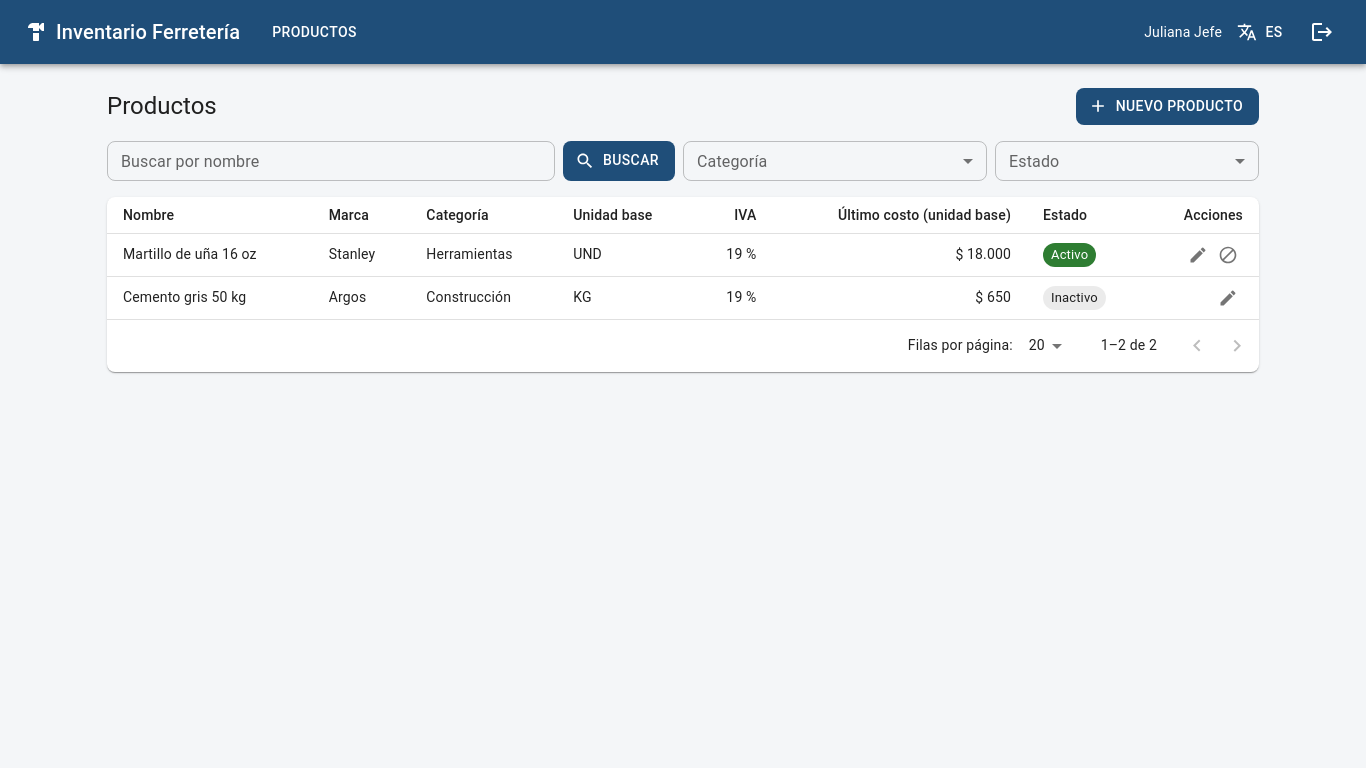
Test: ProductosPage › crear y editar abren el formulario
Expected: the row with test id "producto-fila-1" is shown, [107,233,1259,276]
Step 1. Click the button with test id "productos-nuevo" → (1167, 106), box [1076,88,1259,124]
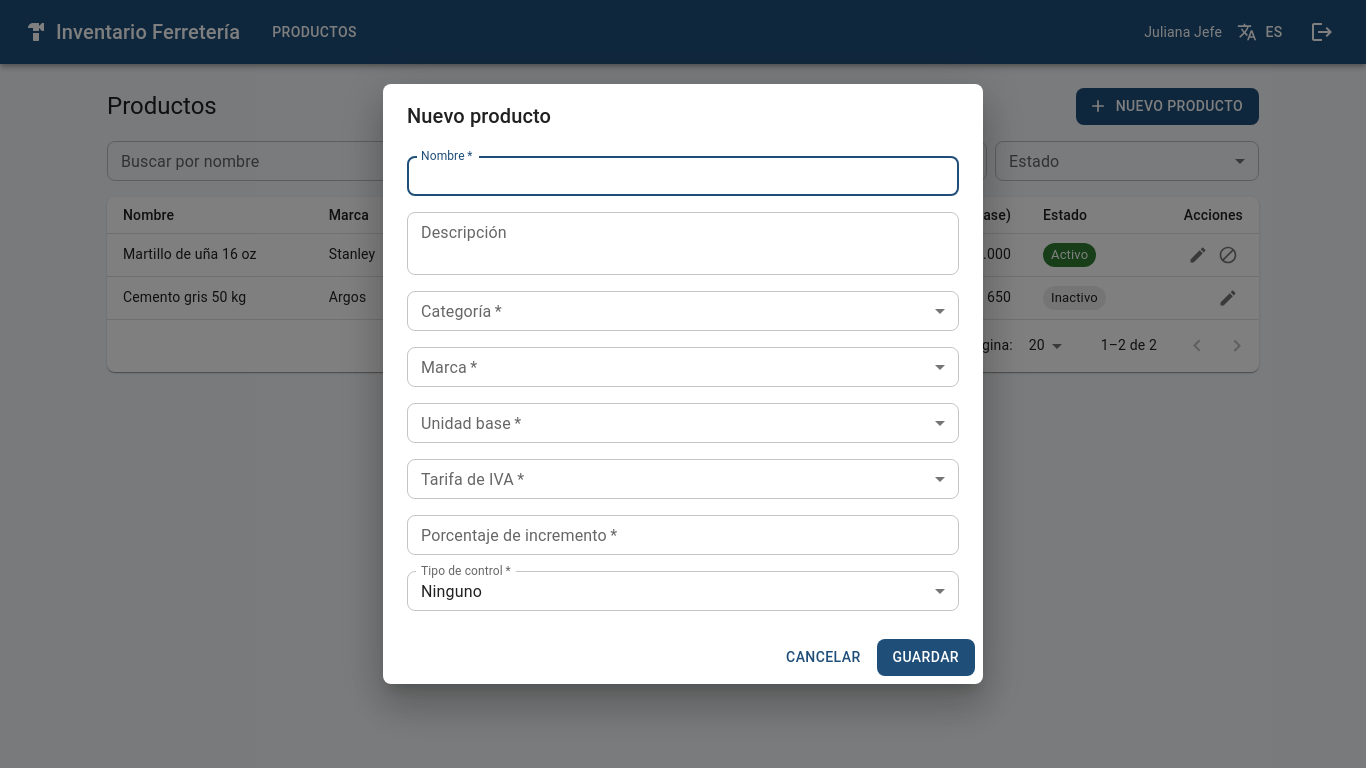
Expected: the heading "Nuevo producto" is shown, [407,104,551,128]
Step 2. Click the button with test id "producto-cancelar" → (823, 658), box [778,639,868,676]
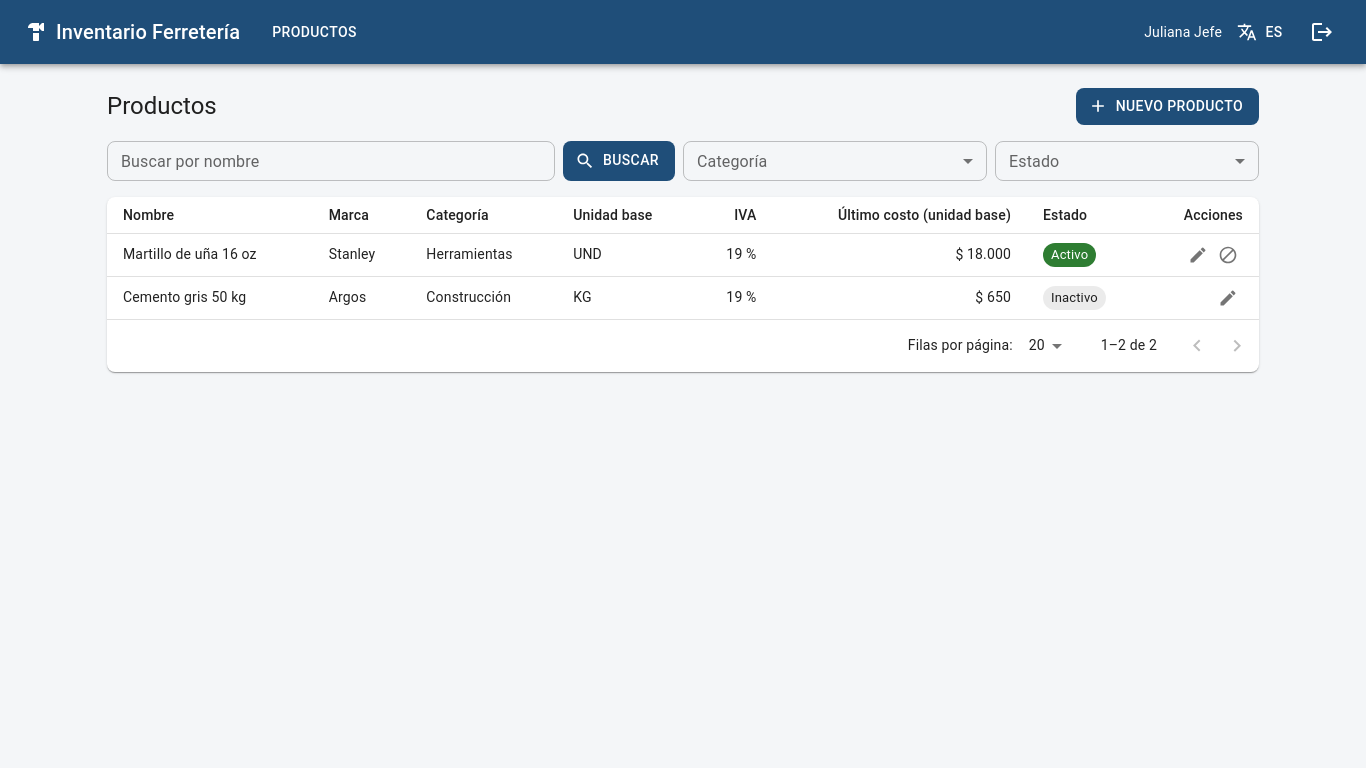
Expected: the form with test id "producto-form" is gone
Step 3. Click the button with test id "producto-editar-1" → (1198, 254), box [1183,240,1213,270]
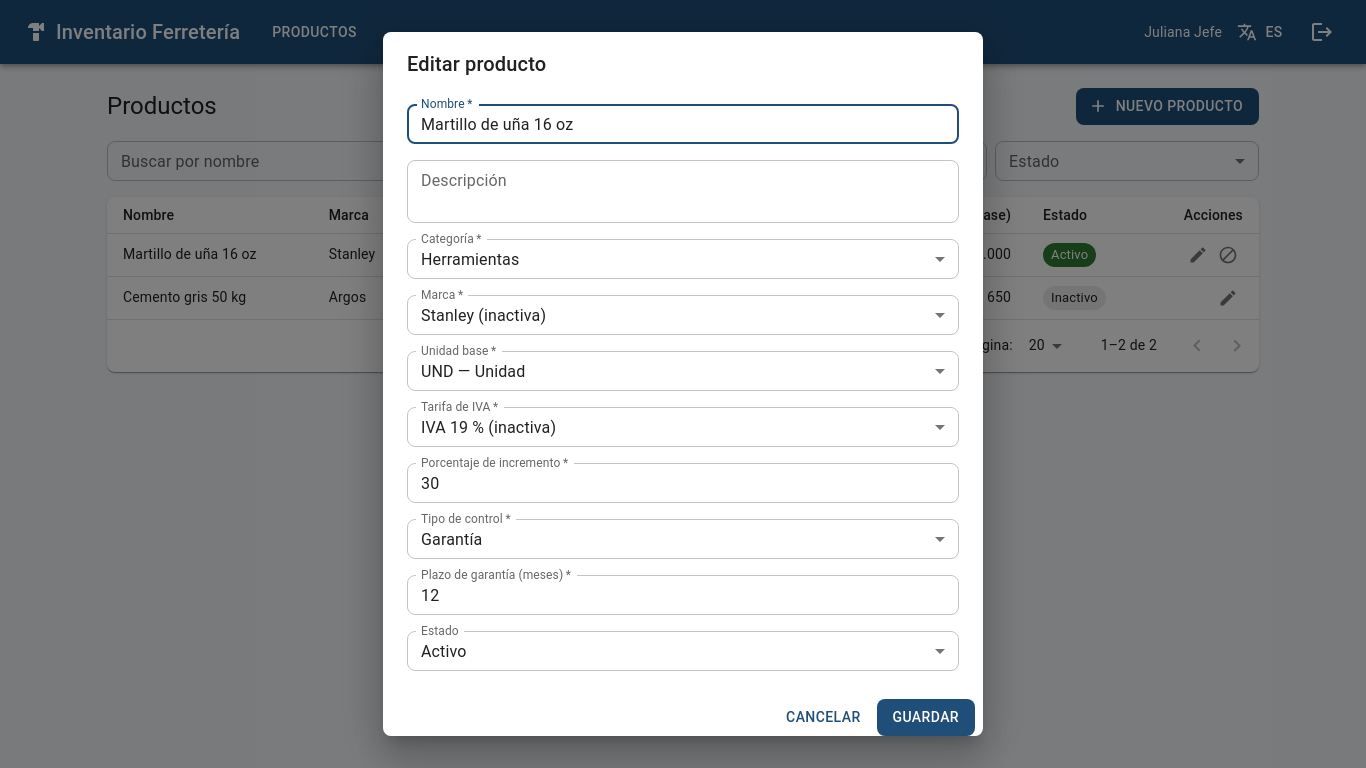
Expected: the heading "Editar producto" is shown, [407,52,546,76]
Expected: the field with test id "producto-campo-nombre" holds "Martillo de uña 16 oz", [407,104,959,144]
